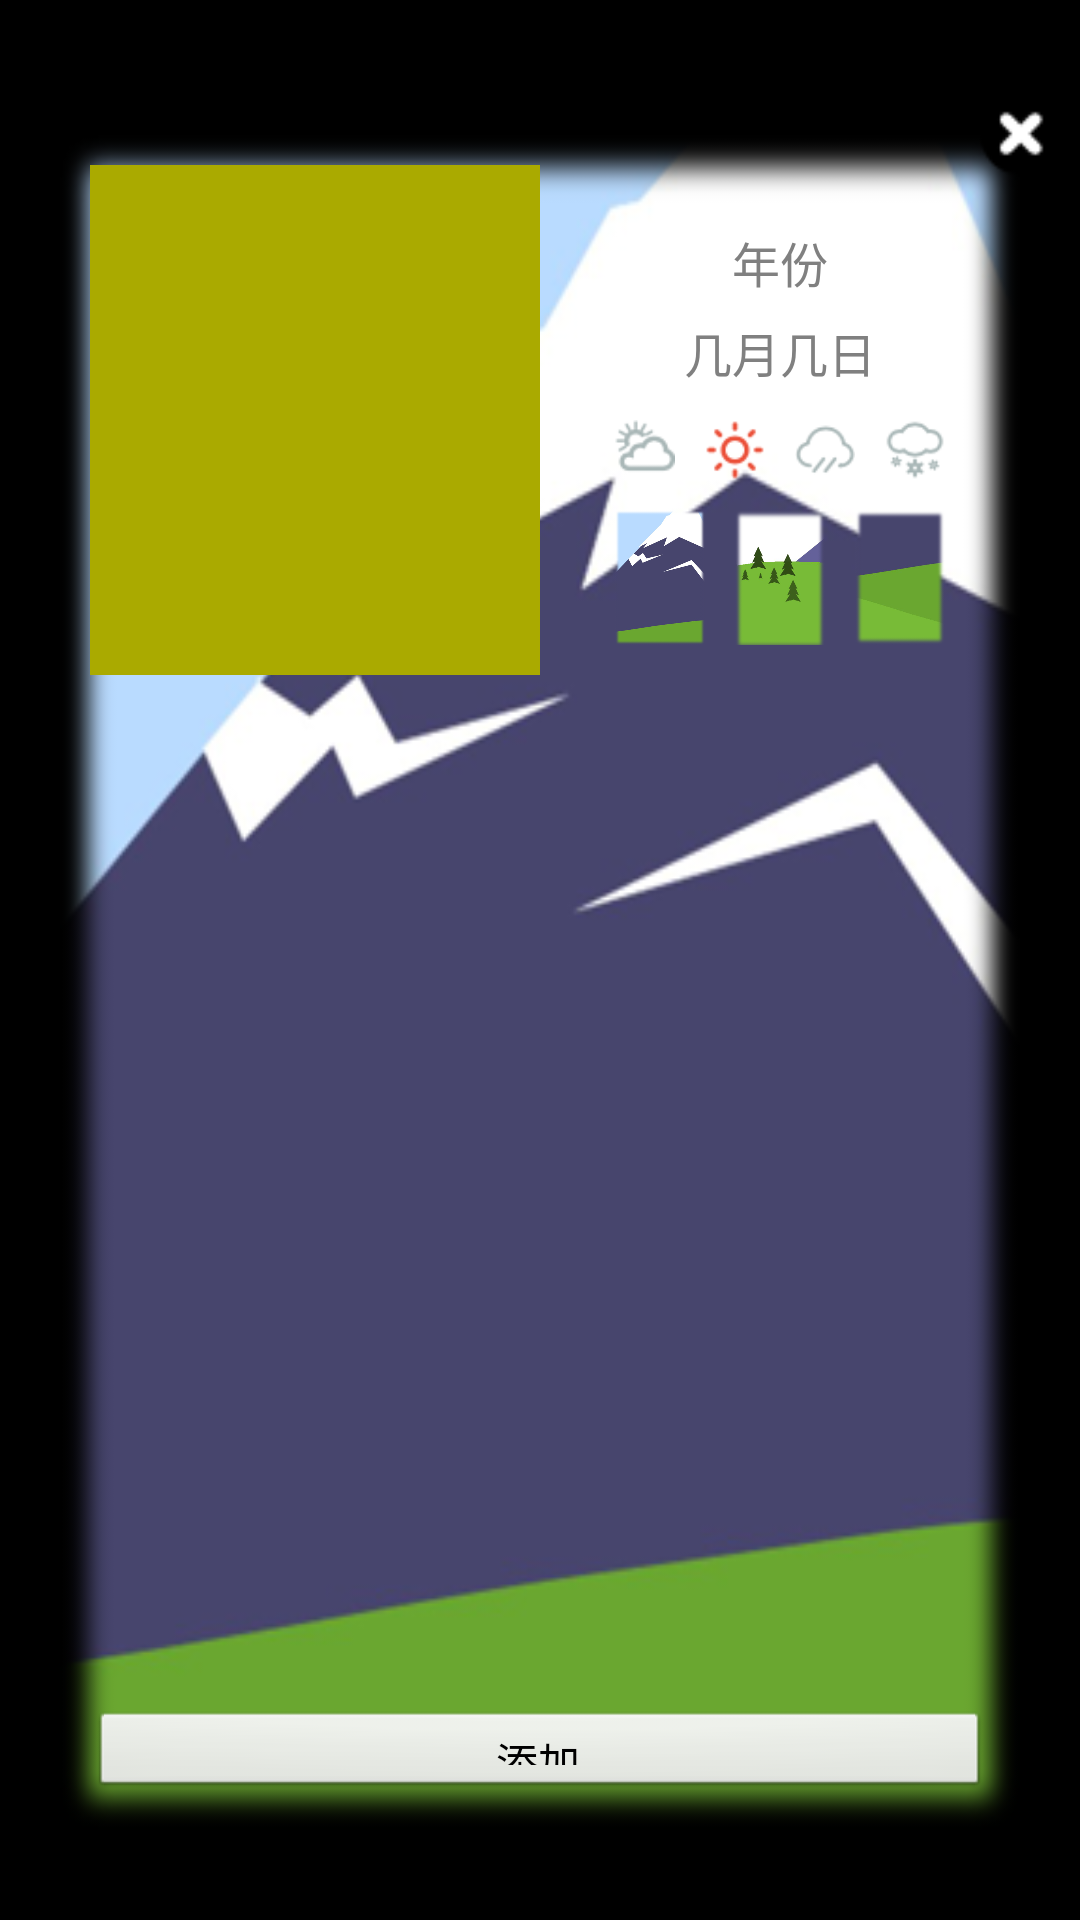

Point at icon controls on the screen. Image size 1080*1920, points as point (x, y).
close: point (1021, 133)
radio cloudy: point (645, 446)
radio fine: point (735, 446)
radio rain: point (825, 449)
radio snow: point (915, 449)
